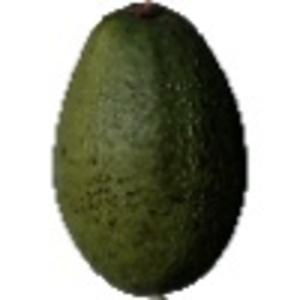abacate: (48, 1, 248, 294)
